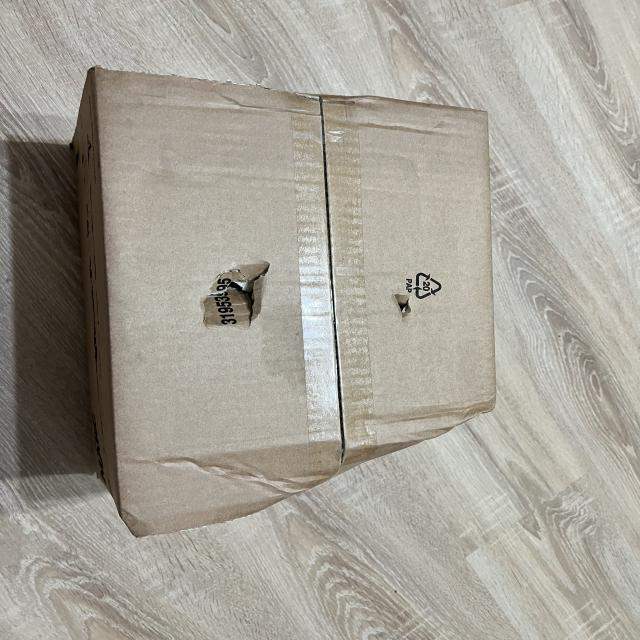damaged: (76, 54, 508, 549), (213, 370, 556, 545), (182, 249, 288, 341)
